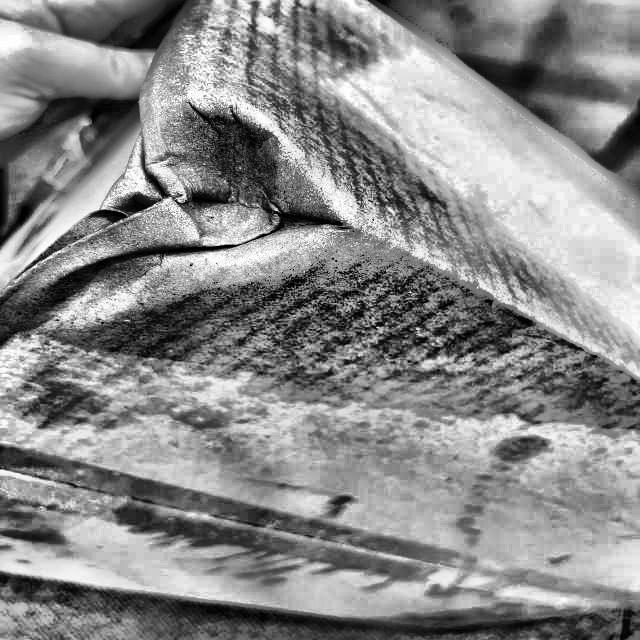box: (0, 0, 639, 634)
wet: (34, 71, 638, 435)
